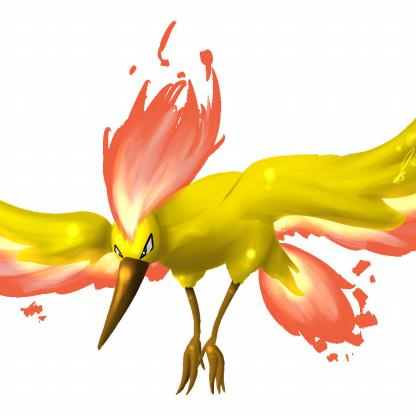Moltres: (1, 53, 416, 410)
